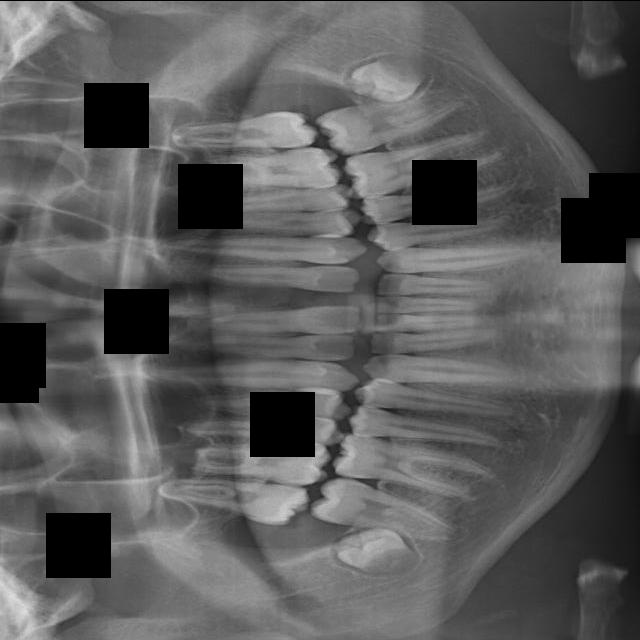AGS Medikal Implant: (312, 72, 474, 161)
AMerOss Implant: (339, 122, 508, 202)
Amalgam filling: (164, 473, 311, 529)
Anthogyr Implant: (358, 211, 359, 211)
Bicon Implant: (365, 205, 518, 252)
BioHorizons Implant: (375, 242, 541, 274)
BioLife Implant: (376, 273, 502, 298)
Biomet 3i Implant: (375, 295, 490, 314)
Blue Sky Bio Implant: (371, 313, 495, 332)
Camlog Implant: (369, 325, 501, 354)
Caries: (200, 254, 362, 294)
Composite filling: (362, 353, 525, 383)
Cowellmedi Implant: (350, 375, 518, 432)
Crown: (344, 402, 514, 466)
DENTSPLY Implant: (191, 443, 332, 486)
Dentatus Implant: (329, 428, 501, 508)
Dentis Implant: (307, 472, 467, 547)
Dentium Implant: (331, 524, 422, 579)
Euroteknika Implant: (184, 407, 343, 447)
Filling: (197, 377, 352, 423)
Frontier Implant: (146, 354, 360, 391)
Hiossen Implant: (157, 230, 368, 264)
Implant: (196, 304, 363, 338)
Implant Direct: (183, 333, 359, 362)
MIS Implant: (212, 206, 357, 236)
Mandible: (196, 182, 353, 220)
Maxilla: (204, 144, 344, 198)
Megagen Implant: (180, 132, 228, 138)
Neoss Implant: (340, 42, 437, 116)
